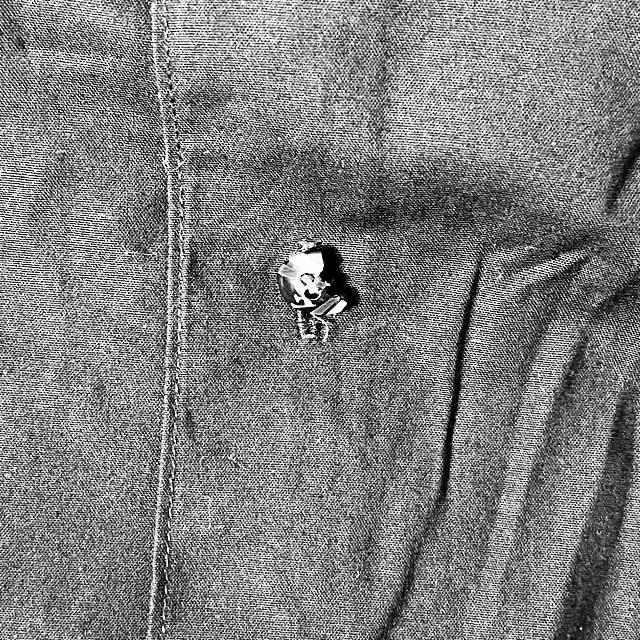Broken_button: (252, 235, 365, 352)
